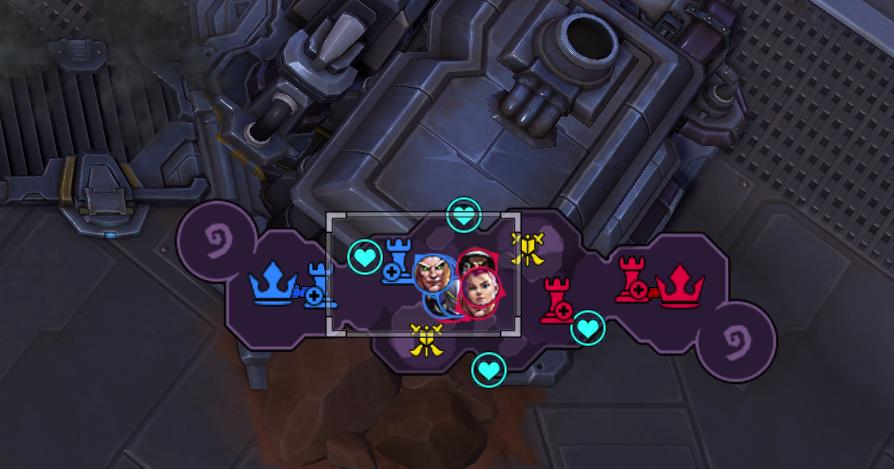blue nexus: (247, 258, 299, 305)
blue player: (414, 254, 456, 314), (424, 277, 465, 319), (415, 255, 449, 291), (439, 285, 460, 315)
blue tower: (303, 260, 339, 308), (380, 236, 414, 283)
red nexus: (653, 262, 705, 310)
red player: (460, 270, 503, 307), (461, 286, 503, 323), (455, 247, 498, 283)
red tower: (614, 255, 652, 303), (539, 275, 575, 324)
